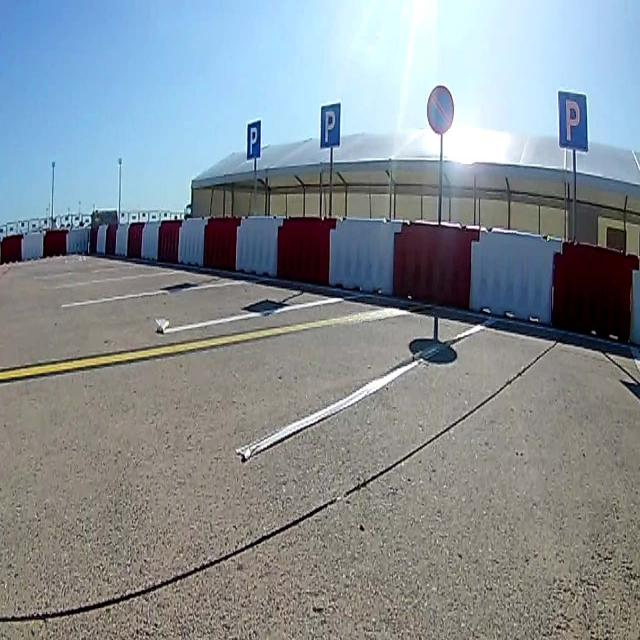park: (558, 90, 589, 152), (320, 104, 340, 147), (246, 121, 261, 159)
parkyasak: (428, 86, 454, 132)
